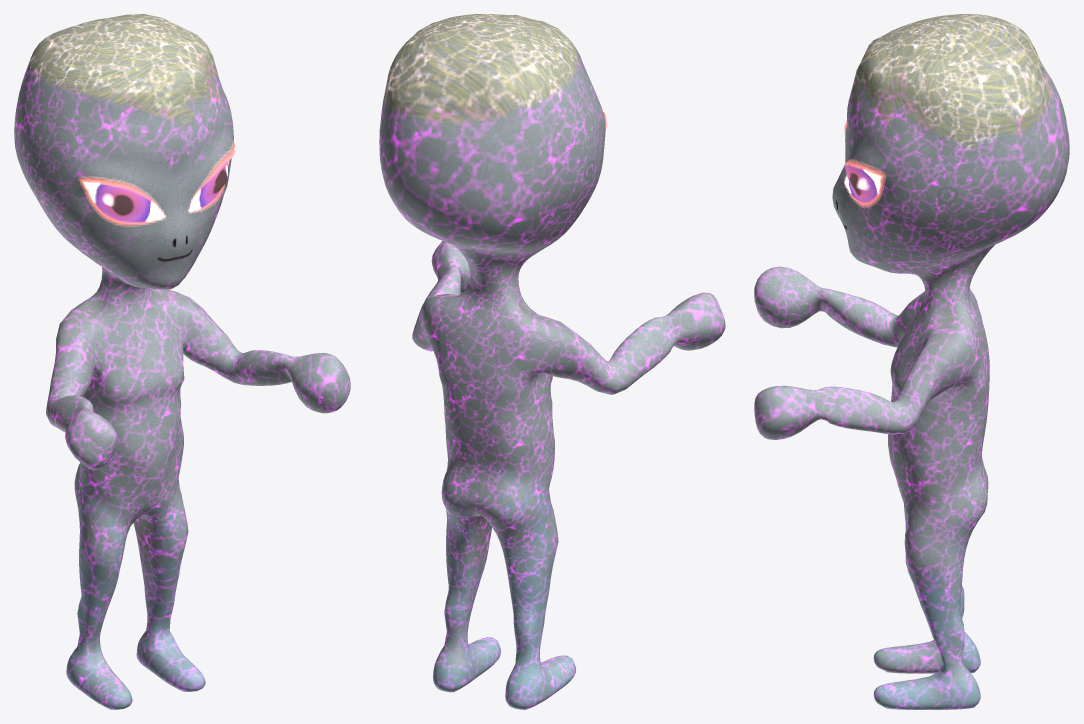
File: Alien_mesh_drive.fbx
3 views of the same model, side by side, from view 1: azimuth 30°, elevation 25°; view 2: azimuth 150°, elevation 25°; view 3: azimuth 270°, elevation 25° (orthographic). The views are drawn at different scales.
Visible parts, largest first — view 1: Alien; view 2: Alien; view 3: Alien.
Part boxes in pixels (bbox=[...]): Alien: bbox=[14, 14, 350, 709]; Alien: bbox=[379, 14, 725, 709]; Alien: bbox=[754, 14, 1069, 709].
Bounding box in the file's own units: 85.4 × 190 × 82.34.
